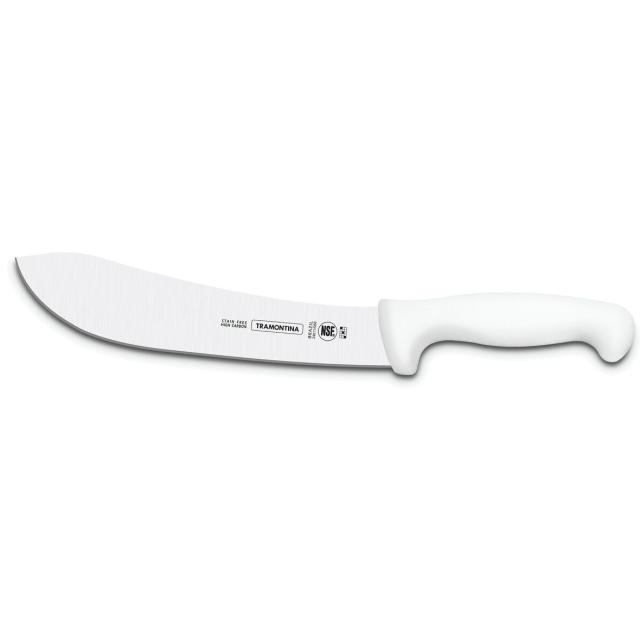Weapon: (16, 253, 634, 375)
